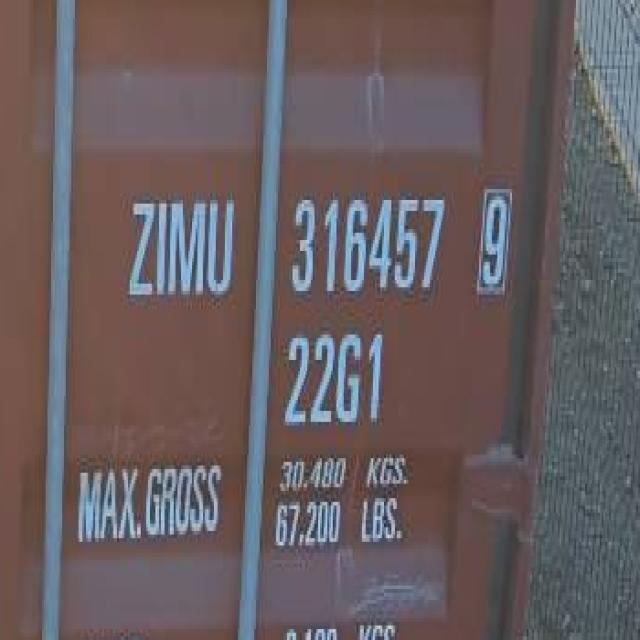dv: (474, 186, 513, 298)
owner: (123, 183, 240, 304)
serial: (287, 188, 447, 304)
size: (279, 317, 388, 431)
